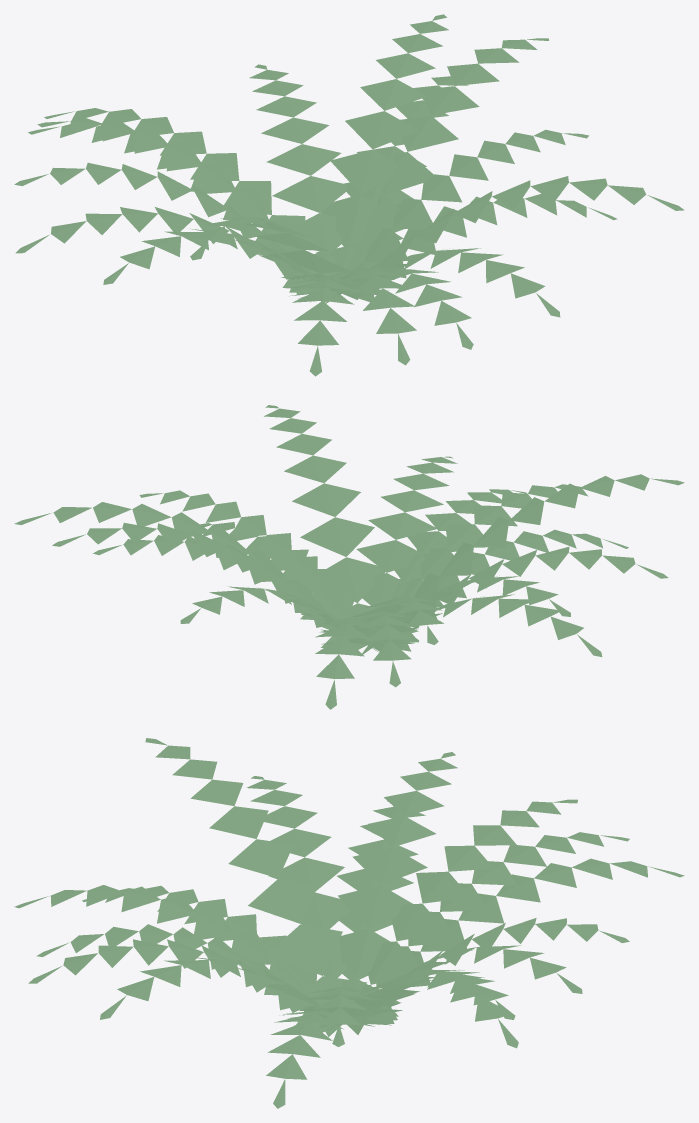
Rendered from Blender_SwordFern_1.glb.
3 renders of one model, top to bottom at view 1: azimuth 30°, elevation 25°; view 2: azimuth 150°, elevation 25°; view 3: azimuth 270°, elevation 25°, orthographic. The views are drawn at different scales.
Parts seen in each view (by area): view 1: Blender_SwordFern_1; view 2: Blender_SwordFern_1; view 3: Blender_SwordFern_1.
Boxes of the visible parts, x1=… form: Blender_SwordFern_1: x1=14, y1=14, x2=684, y2=376; Blender_SwordFern_1: x1=14, y1=405, x2=684, y2=709; Blender_SwordFern_1: x1=14, y1=738, x2=684, y2=1108.
Bounding box in the file's own units: 1.07 × 0.2924 × 1.04.
